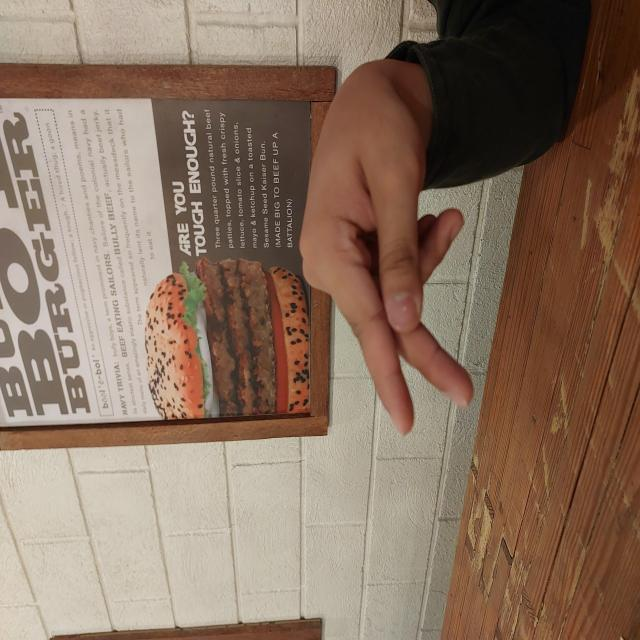P: (200, 296, 559, 476)
